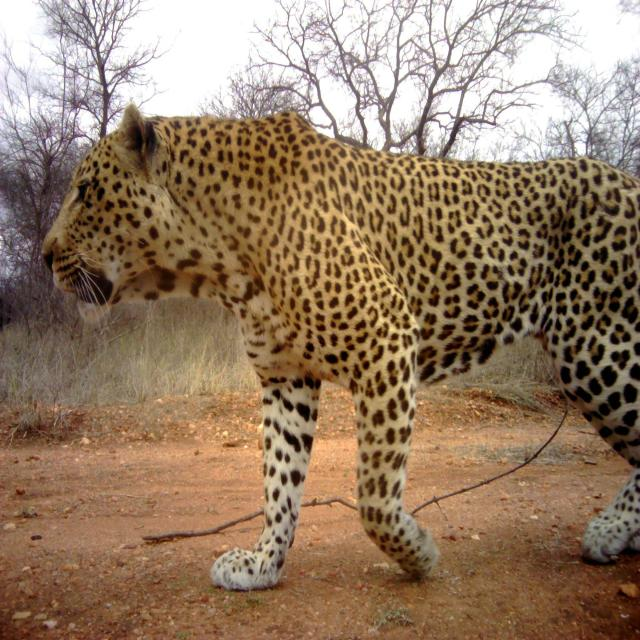Leopard: (31, 94, 602, 612)
